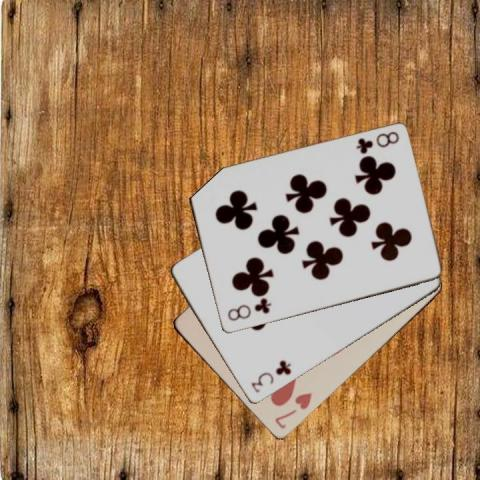3c: (248, 357, 293, 395)
7h: (271, 390, 315, 432)
8c: (224, 297, 273, 323), (353, 129, 400, 156)
